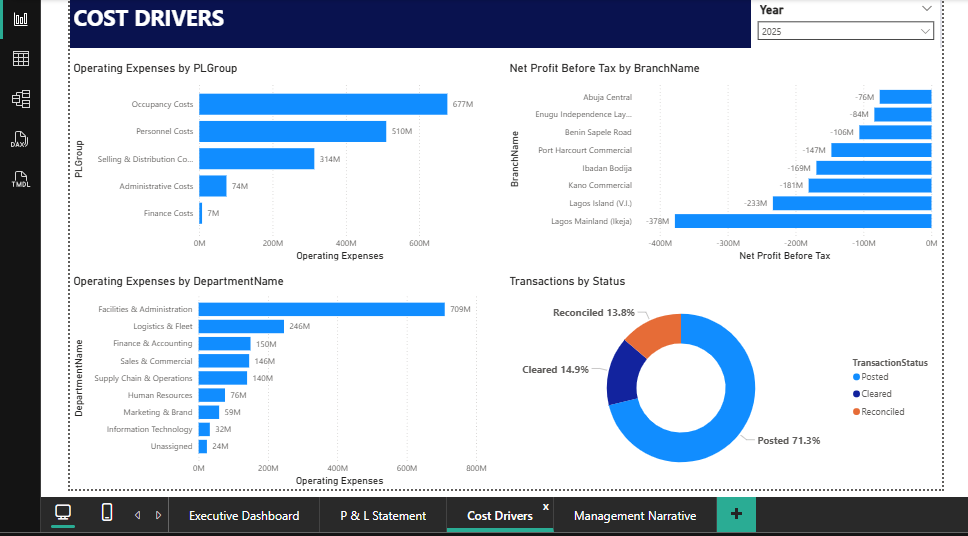

The dashboard page shown, as its layout file describes it:
{"tool":"powerbi","page":{"name":"Cost Drivers","canvas":[1280,720],"ordinal":2},"visuals":[{"type":"clusteredBarChart","fields":{"Category":["DimAccount.PLGroup"],"Y":["FactFinancialTransactions.Operating Expenses"]},"box":[0,91.1,624.5,298.3],"z":0},{"type":"clusteredBarChart","fields":{"Category":["DimBranch.BranchName"],"Y":["FactFinancialTransactions.Net Profit Before Tax"]},"box":[640.7,91.1,639.2,298.3],"z":1000},{"type":"clusteredBarChart","fields":{"Category":["DimDepartment.DepartmentName"],"Y":["FactFinancialTransactions.Operating Expenses"]},"box":[0,404.1,624.5,315.9],"z":2000},{"type":"textbox","box":[0,0,1279.8,72],"z":3000},{"type":"slicer","fields":{"Values":["DimDate.Year"]},"box":[1000.7,0,279.2,72],"z":4000},{"type":"donutChart","title":"Transactions by Status","fields":{"Category":["FactFinancialTransactions.TransactionStatus"],"Y":["CountNonNull(FactFinancialTransactions.TransactionID)"]},"box":[640.7,404.1,639.2,315.9],"z":5000}]}

Visuals, with their boxes on the page's 1280x720 design canvas (x1, y1, x2, y2). These are canvas units, not pixel positions in the 968x536 screenshot, which may show the page scaled, cropped or inside an application window:
clusteredBarChart - DimAccount.PLGroup x FactFinancialTransactions.Operating Expenses: {"left": 0, "top": 91, "right": 624, "bottom": 389}
clusteredBarChart - DimBranch.BranchName x FactFinancialTransactions.Net Profit Before Tax: {"left": 641, "top": 91, "right": 1280, "bottom": 389}
clusteredBarChart - DimDepartment.DepartmentName x FactFinancialTransactions.Operating Expenses: {"left": 0, "top": 404, "right": 624, "bottom": 720}
textbox: {"left": 0, "top": 0, "right": 1280, "bottom": 72}
slicer - DimDate.Year: {"left": 1001, "top": 0, "right": 1280, "bottom": 72}
"Transactions by Status" donutChart: {"left": 641, "top": 404, "right": 1280, "bottom": 720}
